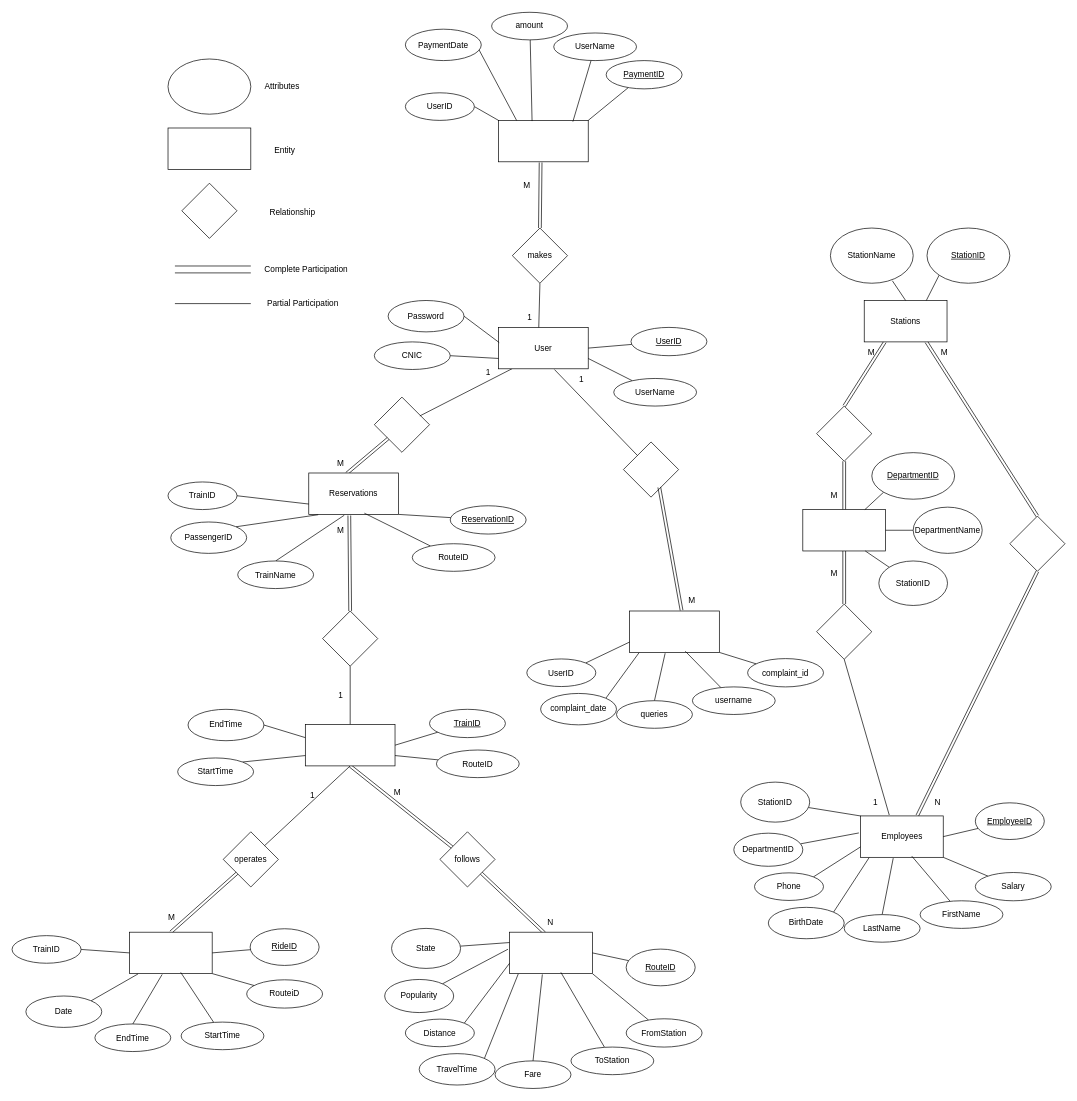
Image size: 1077x1101. Some labels were removed from this diagram. The centre of each missing label's shape, as x and y in pixels:
"books" goes at (402,424).
"ComplaintsAndQueries" goes at (674,631).
"Department" goes at (844,530).
"located in" goes at (844,433).
"lodges" goes at (651,469).
"manages" goes at (844,631).
"Payments" goes at (543,141).
"reserved" goes at (350,638).
"Rides" goes at (170,952).
"Routes" goes at (550,952).
"Trains" goes at (350,745).
"works at" goes at (1037,543).
